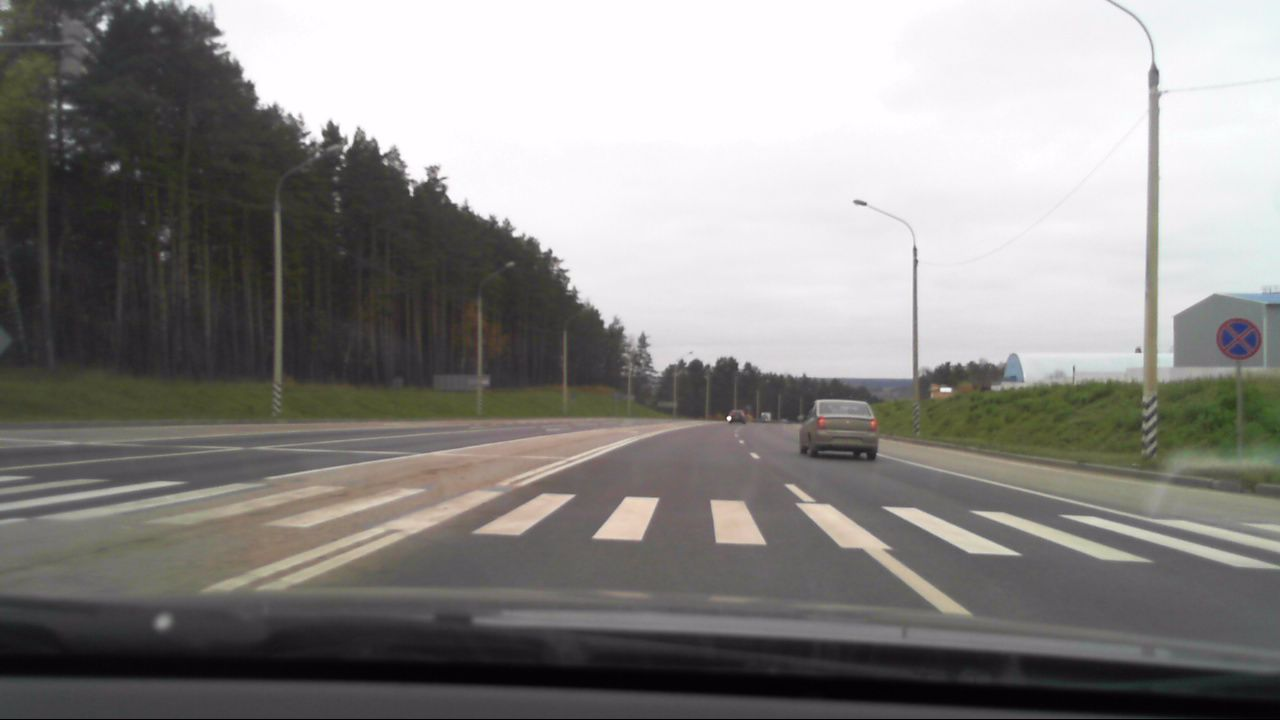No Parking: (1215, 317, 1266, 363)
